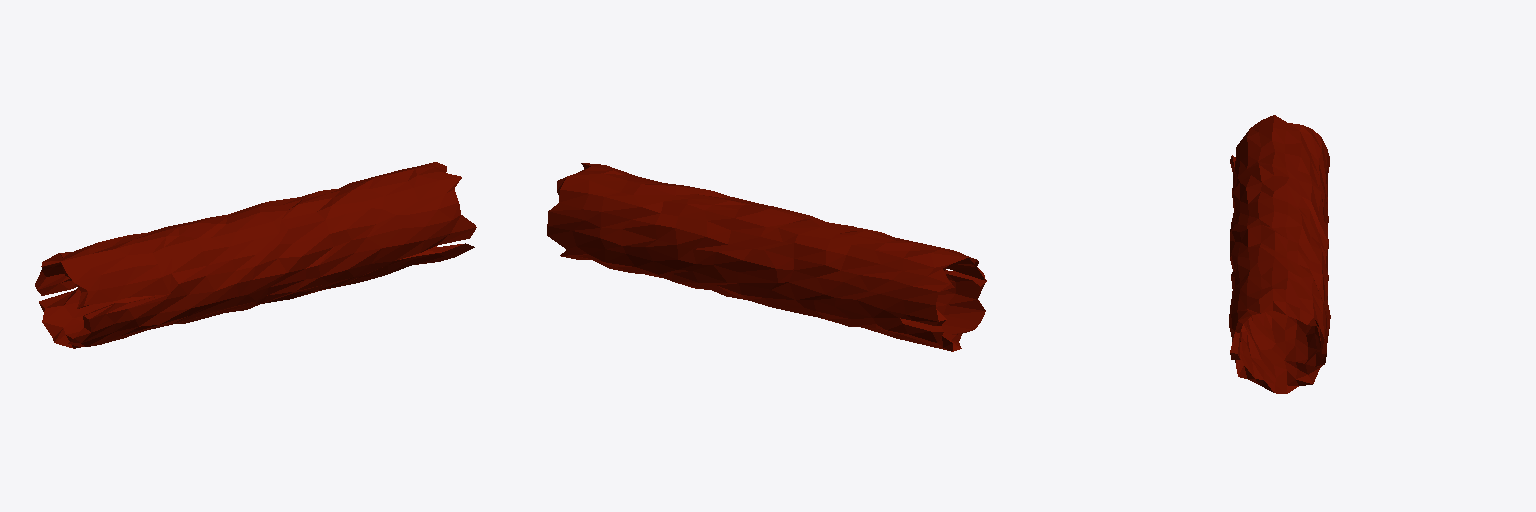
The model's file is log1.obj.
3 renders of one model, left to right at view 1: azimuth 30°, elevation 25°; view 2: azimuth 150°, elevation 25°; view 3: azimuth 270°, elevation 25°, orthographic.
Visible parts, largest first — view 1: Tube001; view 2: Tube001; view 3: Tube001.
Part boxes in pixels (x1,y1,x2,y2): Tube001: (35, 162, 476, 348); Tube001: (547, 163, 986, 351); Tube001: (1229, 115, 1330, 393).
Bounding box in the file's own units: 89.25 × 19.38 × 19.5.